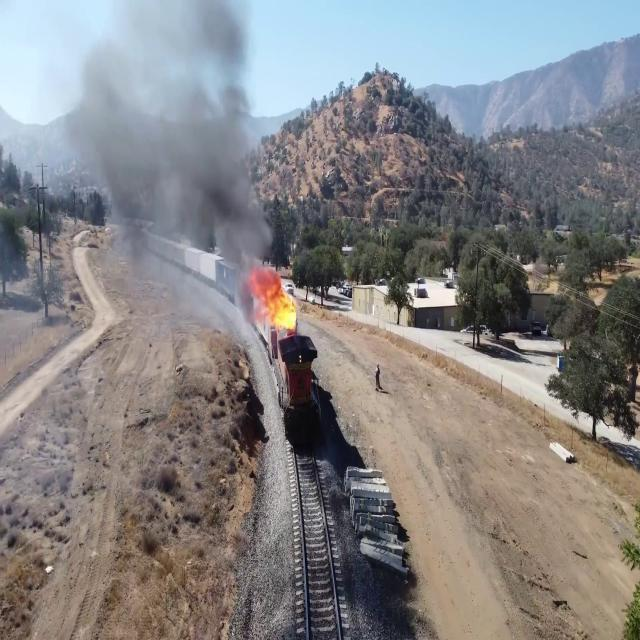Fire: (256, 270, 307, 335)
Smoke: (156, 110, 253, 237)
